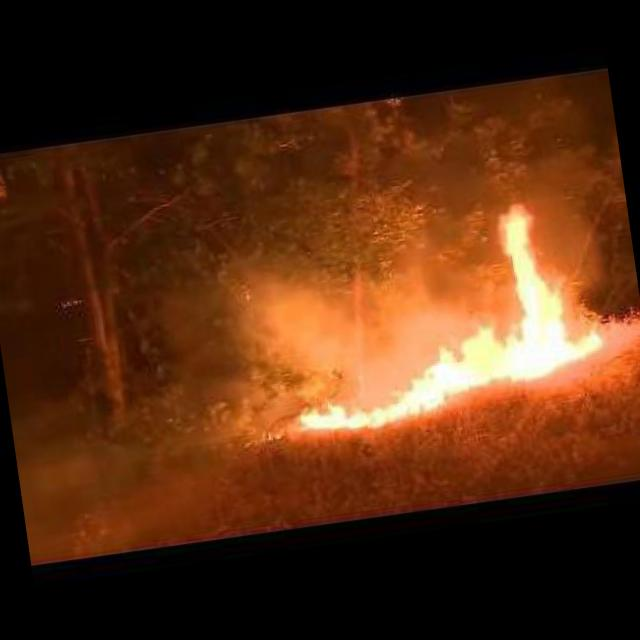fire: (271, 188, 617, 448)
